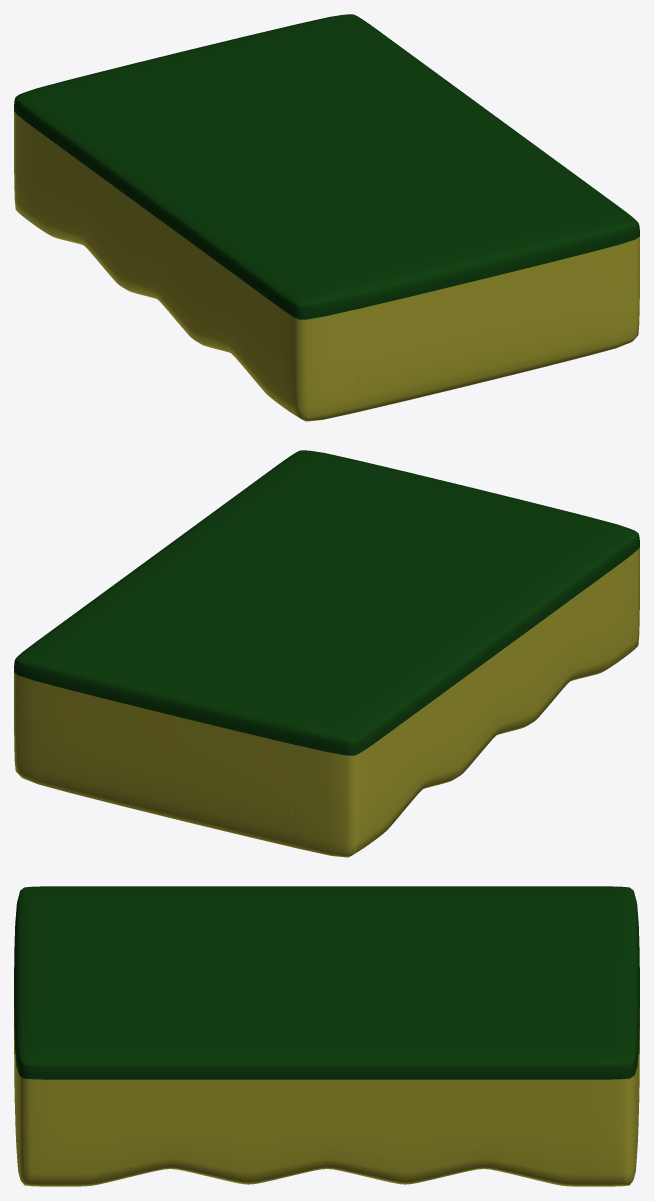
Rendered from Wet_Sponge.fbx.
3 views of the same model, one above another, from view 1: azimuth 30°, elevation 25°; view 2: azimuth 150°, elevation 25°; view 3: azimuth 270°, elevation 25° (orthographic). The views are drawn at different scales.
Parts seen in each view (by area): view 1: pCube1; view 2: pCube1; view 3: pCube1.
Boxes of the visible parts, x1,y1,x2,y2 form: pCube1: [14, 14, 639, 421]; pCube1: [14, 450, 639, 857]; pCube1: [14, 886, 639, 1186].
Size of the model in its own units: 0.4716 by 0.1695 by 0.695.
